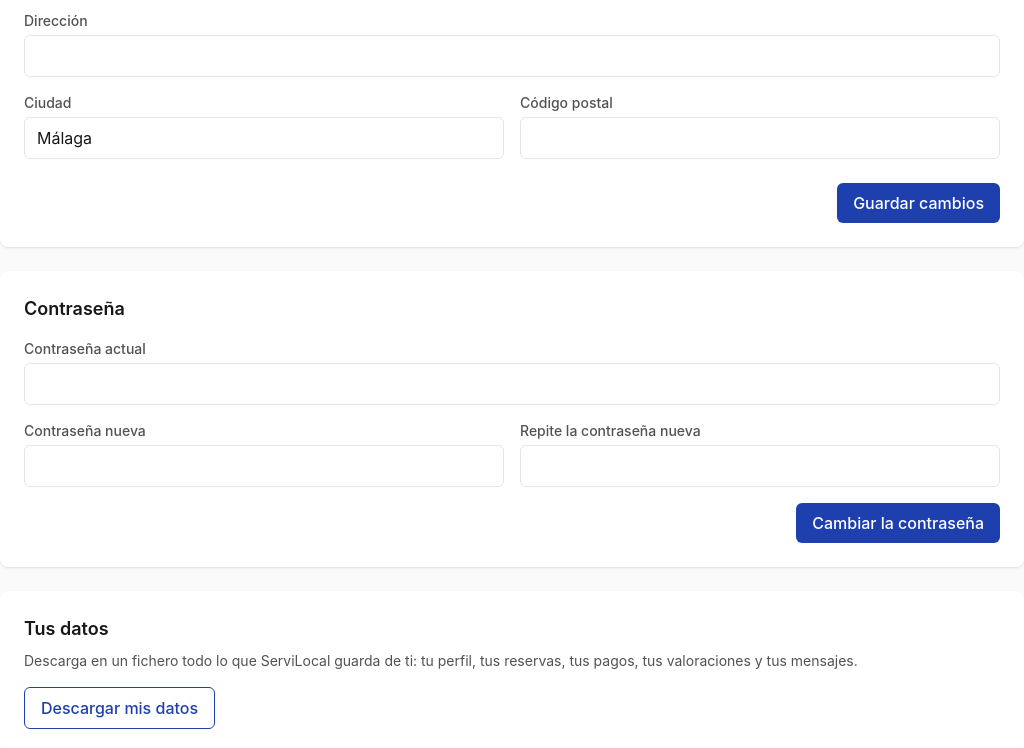
Scenario: Mi perfil › la contraseña › si la nueva no coincide, no la manda
(page scrolled)
In the password field labelled "Contraseña actual": point(512, 384) [24,363,1000,405], type "Antigua123!"
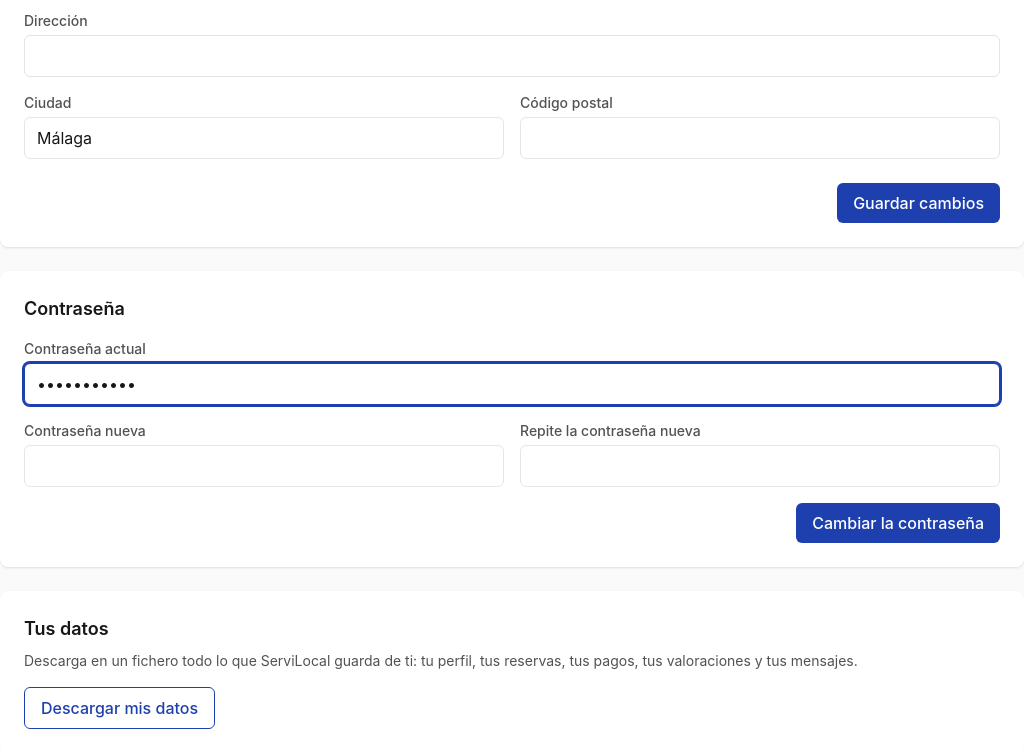
In the password field labelled "Contraseña nueva": point(264, 466) [24,445,504,487], type "Nueva12345!"
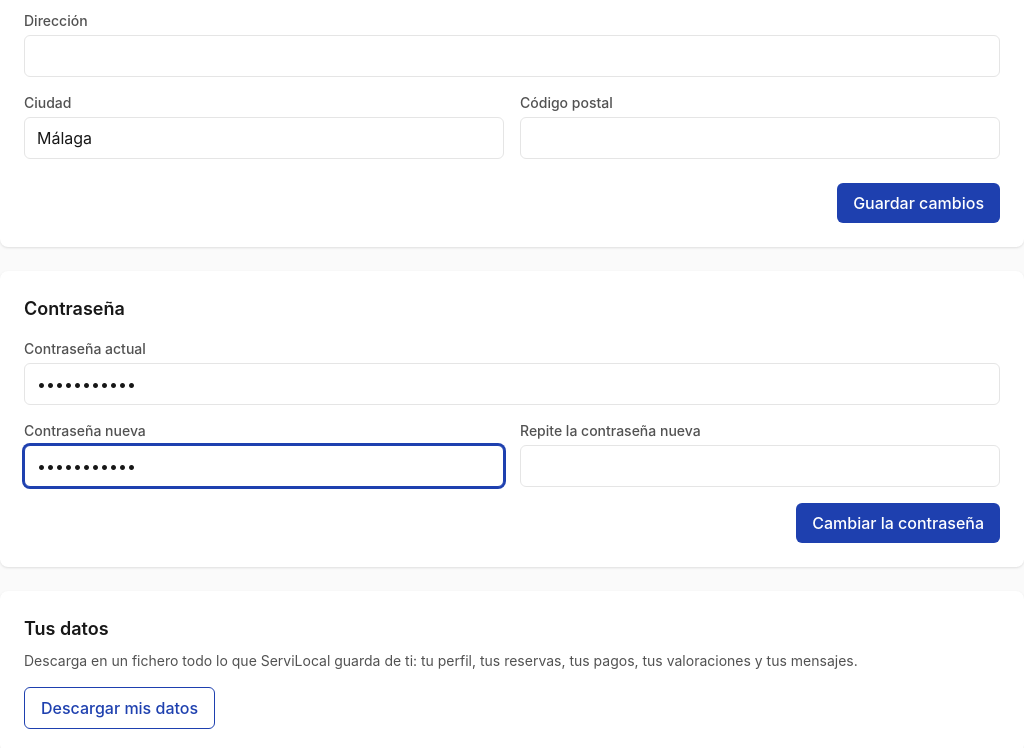
In the password field labelled "Repite la contraseña nueva": point(760, 466) [520,445,1000,487], type "Otra12345!"
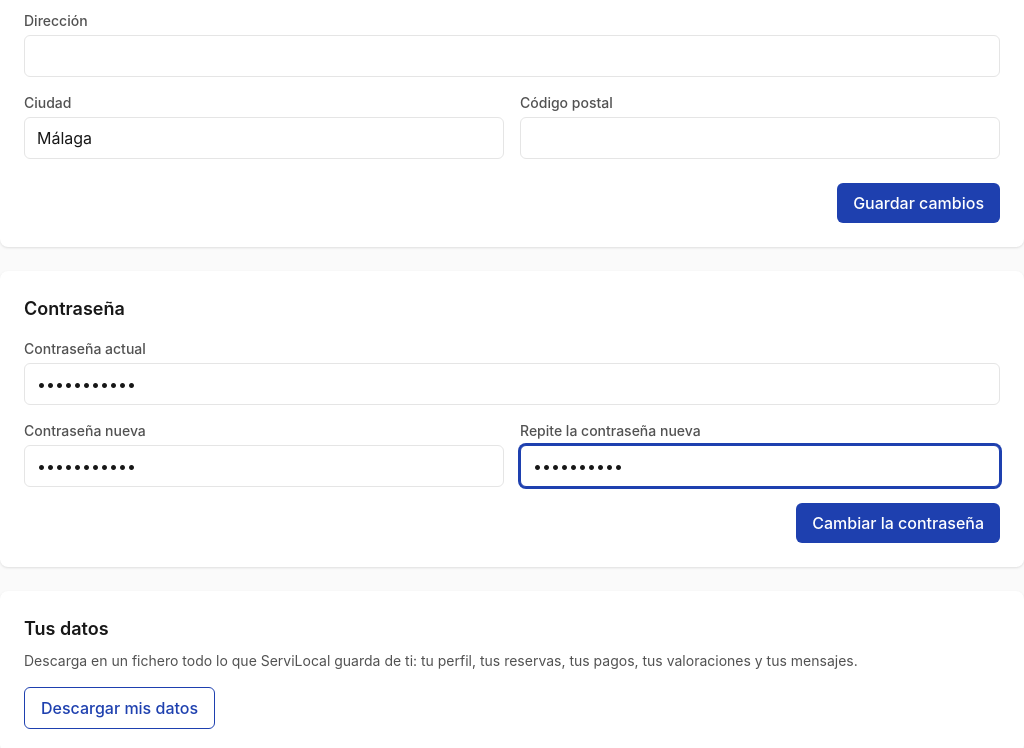
Click the button "Cambiar la contraseña": point(898, 523) [796,503,1000,543]
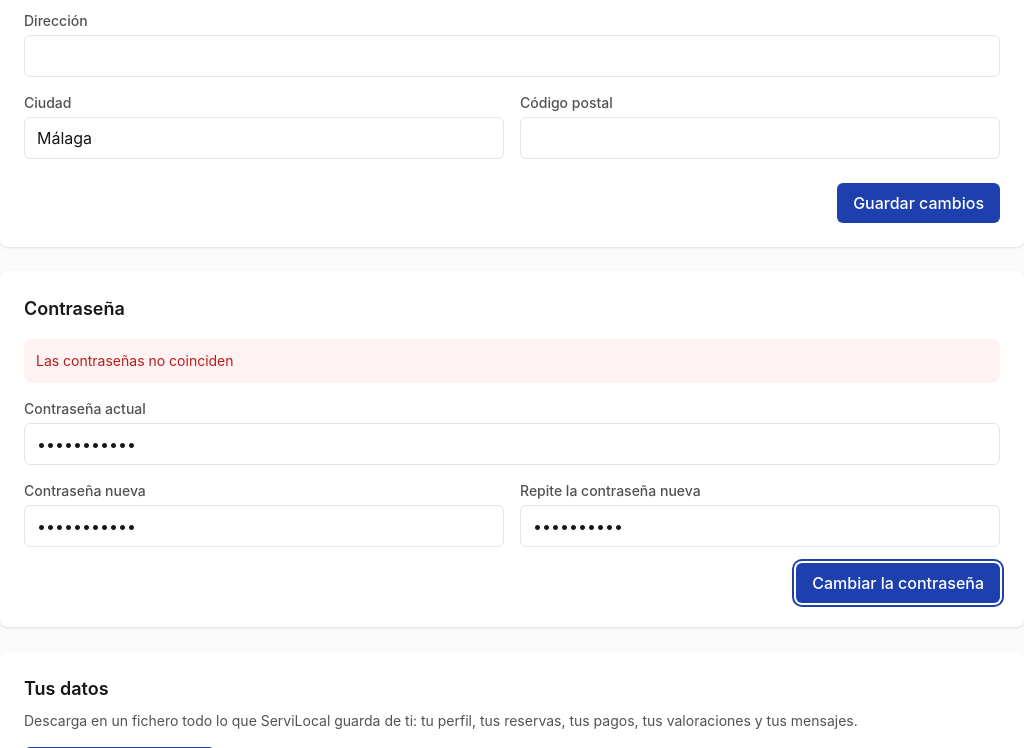
Result: the message reads "Las contraseñas no coinciden" at [36,352,234,369]
